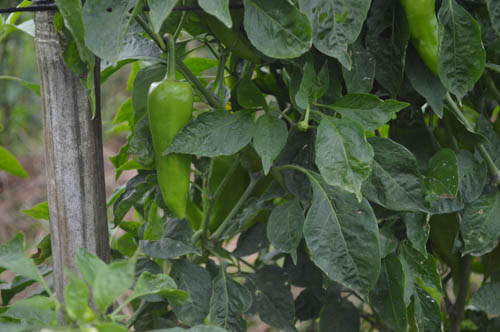ChiliPepper: (147, 80, 193, 219), (205, 159, 248, 233), (403, 2, 442, 75)
